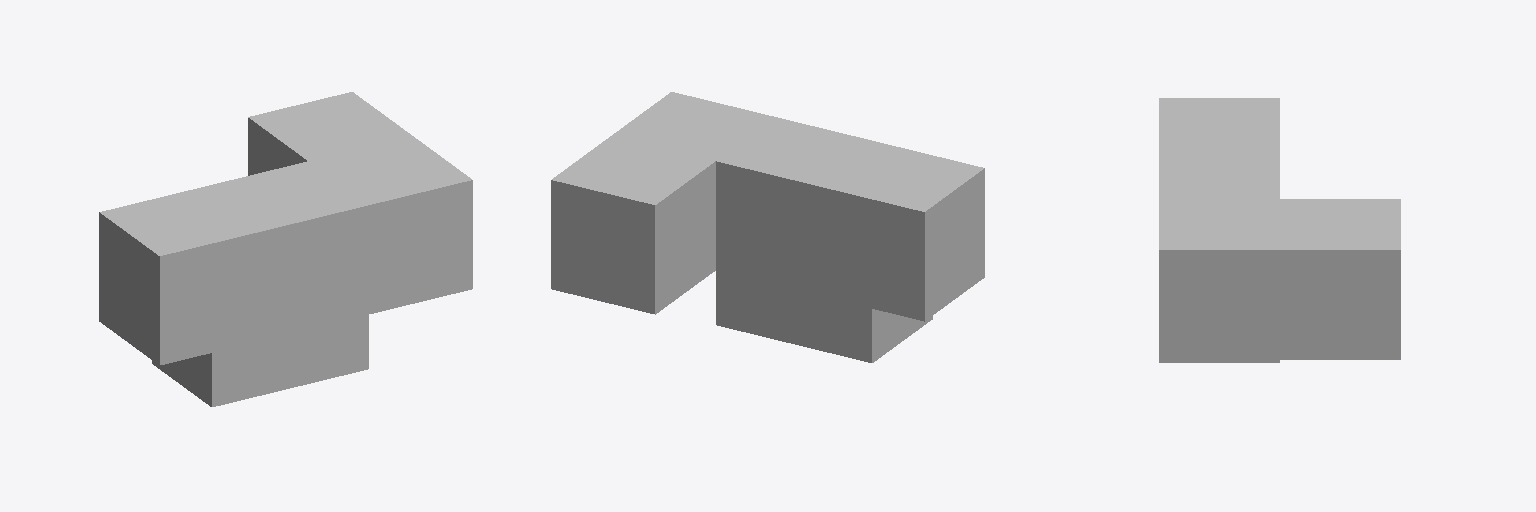
File: Map.obj
3 views of the same model, side by side, from view 1: azimuth 30°, elevation 25°; view 2: azimuth 150°, elevation 25°; view 3: azimuth 270°, elevation 25° (orthographic).
Visible parts, largest first — view 1: Ceiling, Floor; view 2: Ceiling, Floor; view 3: Ceiling.
Boxes of the visible parts, x1=… form: Ceiling: x1=99, y1=92, x2=472, y2=365; Floor: x1=152, y1=315, x2=368, y2=406; Ceiling: x1=551, y1=92, x2=984, y2=321; Floor: x1=716, y1=271, x2=932, y2=362; Ceiling: x1=1159, y1=98, x2=1400, y2=359.
Bounding box in the file's own units: 15 × 7.5 × 10.